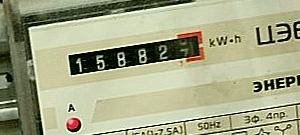1: (70, 54, 81, 71)
2: (153, 40, 166, 59)
5: (91, 51, 103, 68)
7: (176, 44, 186, 56)
8: (132, 44, 145, 63), (112, 48, 124, 66)
screen: (57, 23, 209, 84)
